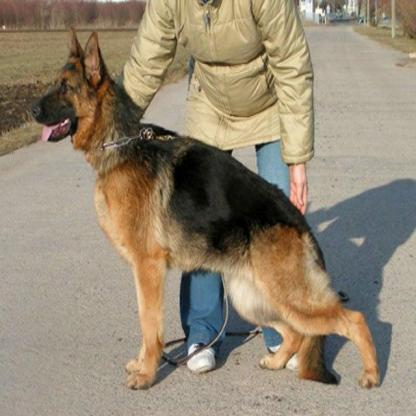dog: (28, 27, 379, 396)
